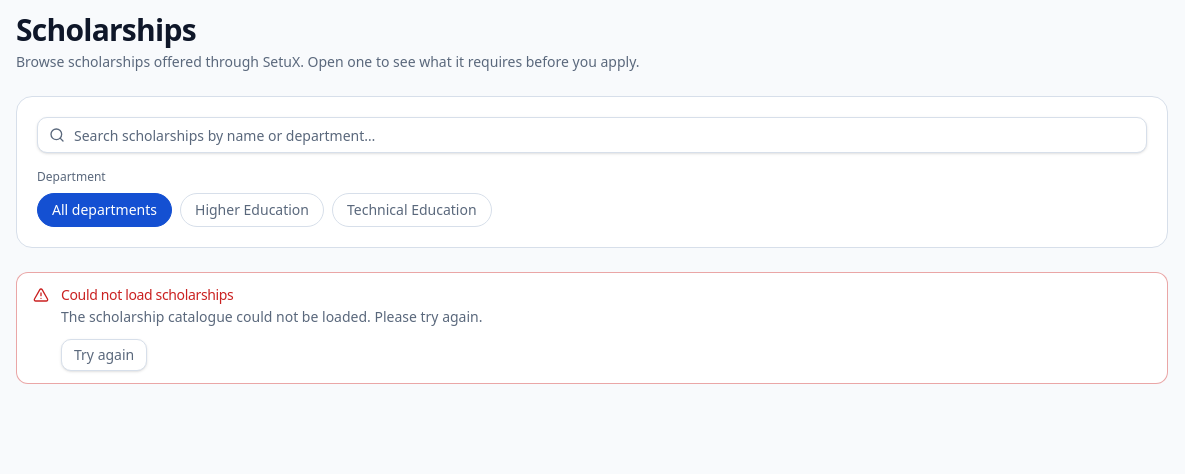
Test case: error state › retries when asked
Click the button "Try again" at (104, 355), box [61, 339, 147, 371]
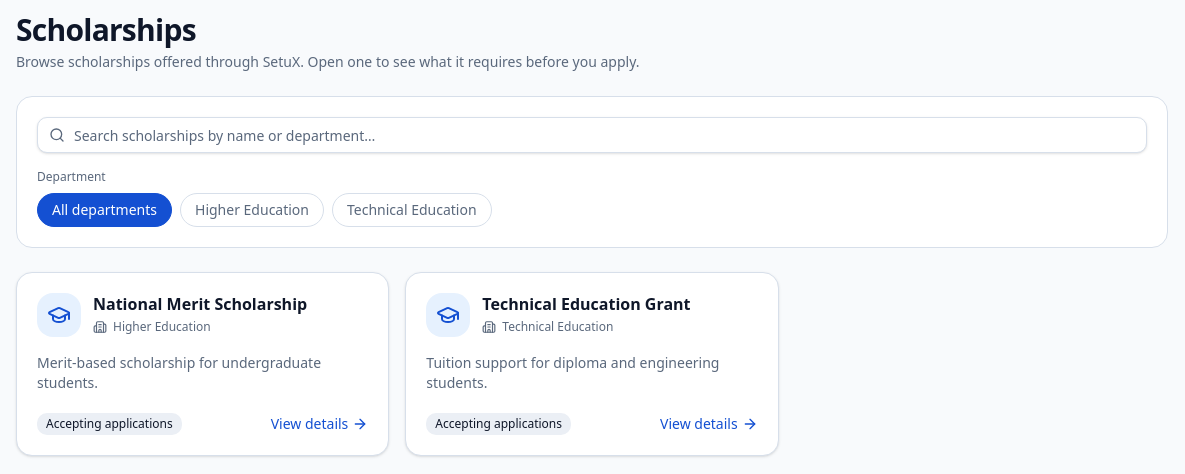
Result: the heading "National Merit Scholarship" is shown at [93, 293, 307, 315]
